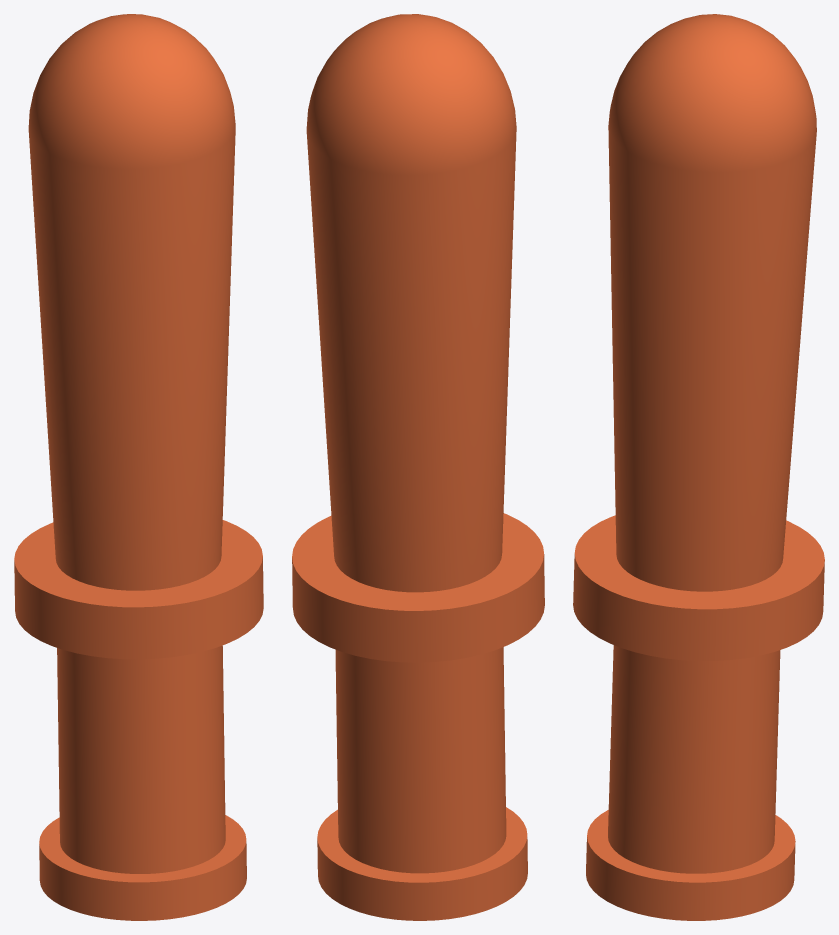
File: baton.fbx
The picture shows the model from 3 angles, left to right: view 1: azimuth 30°, elevation 25°; view 2: azimuth 150°, elevation 25°; view 3: azimuth 270°, elevation 25°; orthographic projection.
Parts seen in each view (by area): view 1: Inner-Node-Policeman-baton_dot_io-0.001; view 2: Inner-Node-Policeman-baton_dot_io-0.001; view 3: Inner-Node-Policeman-baton_dot_io-0.001.
Part boxes in pixels (bbox=[...]): Inner-Node-Policeman-baton_dot_io-0.001: bbox=[14, 14, 263, 920]; Inner-Node-Policeman-baton_dot_io-0.001: bbox=[292, 14, 544, 920]; Inner-Node-Policeman-baton_dot_io-0.001: bbox=[573, 14, 824, 920].
Size of the model in its own units: 47 by 177 by 47.28.
